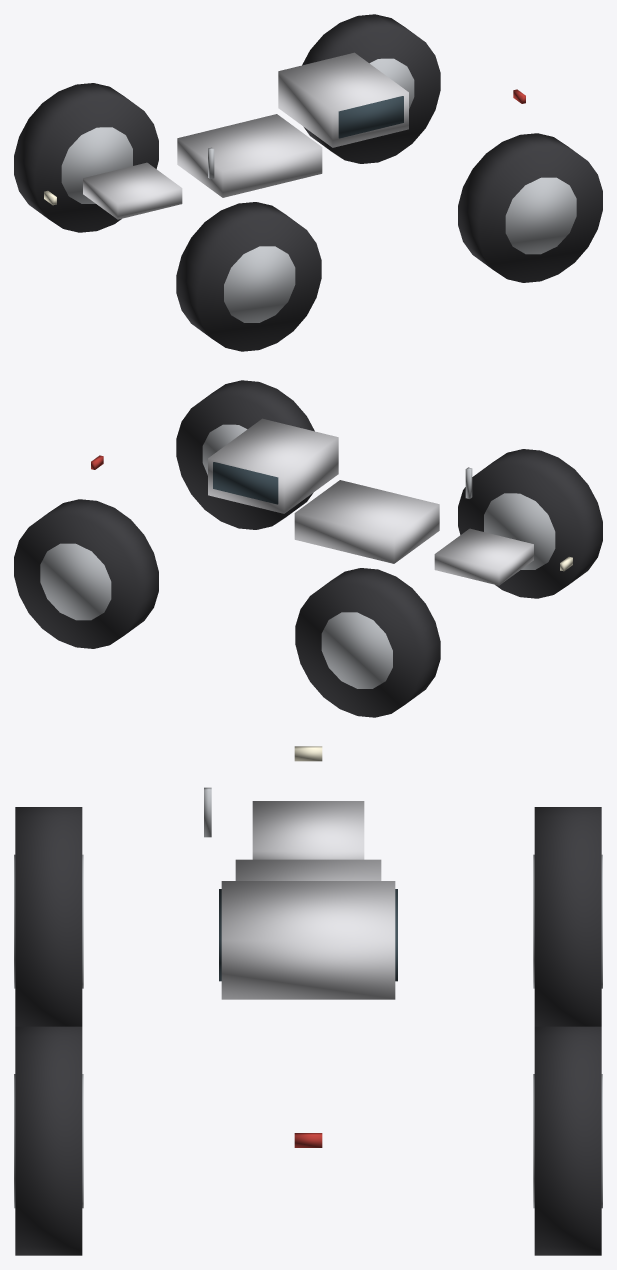
The model's file is tractor-shovel.glb.
3 views of the same model, one above another, from view 1: azimuth 30°, elevation 25°; view 2: azimuth 150°, elevation 25°; view 3: azimuth 270°, elevation 25° (orthographic). The views are drawn at different scales.
Visible parts, largest first — view 1: wheel_front_r, wheel_rear_r, wheel_front_l, body_main, wheel_rear_l, body_cabin, trim_rim__rear_r, trim_rim__front_r, body_hood, trim_rim__front_l, glass_cabin, trim_rim__rear_l; view 2: wheel_front_l, wheel_rear_l, wheel_front_r, body_main, wheel_rear_r, body_cabin, trim_rim__rear_l, trim_rim__front_l, body_hood, trim_rim__front_r, glass_cabin, trim_rim__rear_r; view 3: body_cabin, wheel_rear_l, wheel_rear_r, wheel_front_l, wheel_front_r, body_hood, body_main.
Boxes of the visible parts, <box> form: wheel_front_r: <box>176,202,321,351</box>; wheel_rear_r: <box>458,133,602,282</box>; wheel_front_l: <box>14,83,158,232</box>; body_main: <box>177,114,322,197</box>; wheel_rear_l: <box>302,14,440,163</box>; body_cabin: <box>278,52,408,147</box>; trim_rim__rear_r: <box>505,177,576,254</box>; trim_rim__front_r: <box>224,246,295,322</box>; body_hood: <box>83,162,182,219</box>; trim_rim__front_l: <box>61,127,132,203</box>; glass_cabin: <box>338,96,403,138</box>; trim_rim__rear_l: <box>369,58,414,109</box>; wheel_front_l: <box>295,568,440,717</box>; wheel_rear_l: <box>14,499,158,648</box>; wheel_front_r: <box>458,449,602,598</box>; body_main: <box>294,480,439,563</box>; wheel_rear_r: <box>176,380,314,529</box>; body_cabin: <box>208,418,338,513</box>; trim_rim__rear_l: <box>40,543,111,620</box>; trim_rim__front_l: <box>321,612,392,688</box>; body_hood: <box>434,528,533,585</box>; trim_rim__front_r: <box>484,493,555,569</box>; glass_cabin: <box>213,462,278,504</box>; trim_rim__rear_r: <box>202,424,247,475</box>; body_cabin: <box>221,881,395,999</box>; wheel_rear_l: <box>534,1026,601,1255</box>; wheel_rear_r: <box>15,1026,82,1255</box>; wheel_front_l: <box>534,807,601,1026</box>; wheel_front_r: <box>15,807,82,1026</box>; body_hood: <box>252,801,364,859</box>; body_main: <box>235,859,381,880</box>.
Size of the model in its own units: 4.68 by 1.5 by 3.16.
